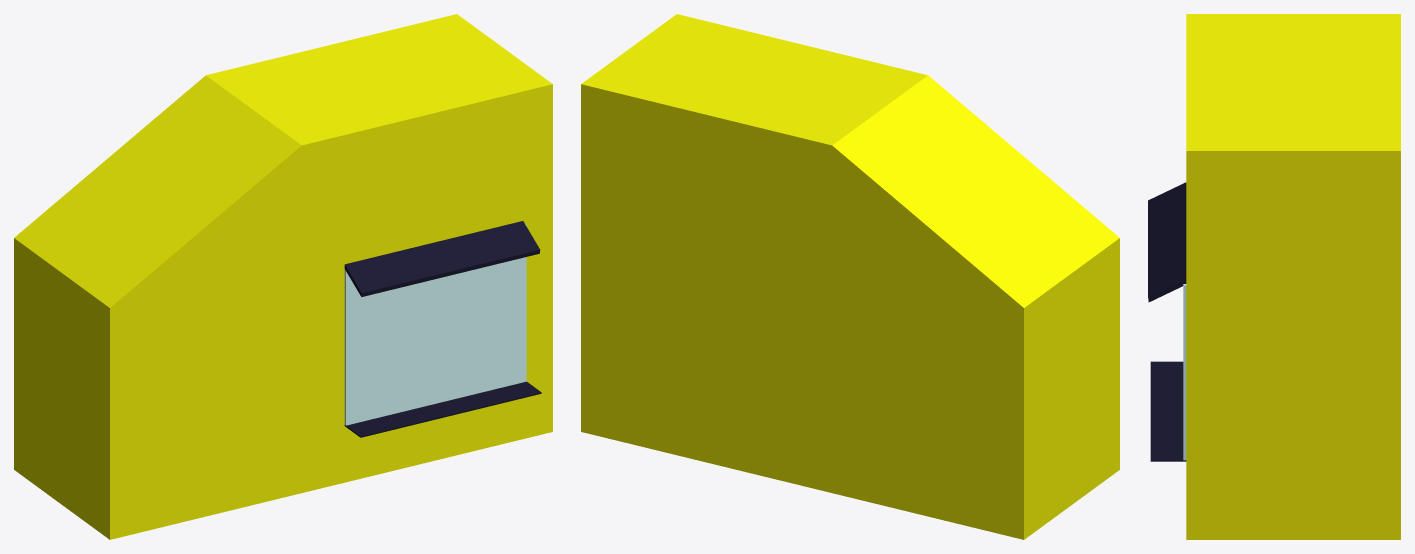
The picture shows the model from 3 angles, left to right: view 1: azimuth 30°, elevation 25°; view 2: azimuth 150°, elevation 25°; view 3: azimuth 270°, elevation 25°; orthographic projection. The views are drawn at different scales.
Visible parts, largest first — view 1: Mesh_0.011; view 2: Mesh_0.011; view 3: Mesh_0.011.
Part boxes in pixels (x1,y1,x2,y2): Mesh_0.011: (14,14,552,539); Mesh_0.011: (581,14,1119,539); Mesh_0.011: (1148,14,1400,539).
Bounding box in the file's own units: 4 × 3 × 1.77.
